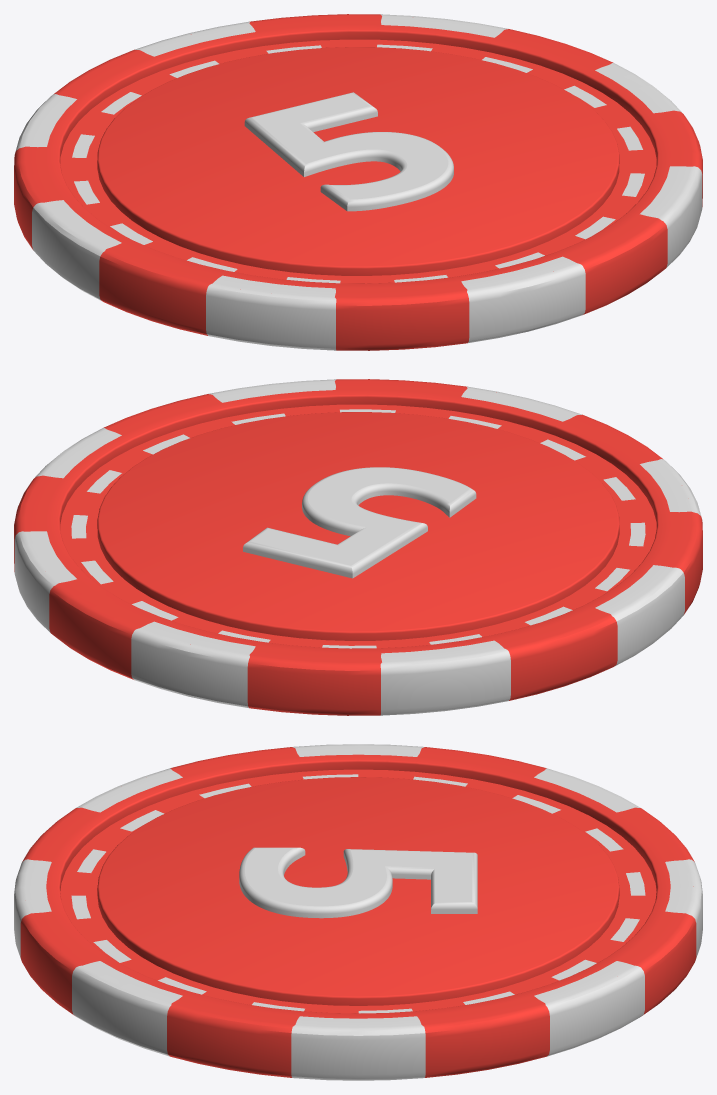
3 renders of one model, top to bottom at view 1: azimuth 30°, elevation 25°; view 2: azimuth 150°, elevation 25°; view 3: azimuth 270°, elevation 25°, orthographic.
Visible parts, largest first — view 1: Chip; view 2: Chip; view 3: Chip.
Part boxes in pixels (x1=…): Chip: x1=14, y1=14, x2=702, y2=350; Chip: x1=14, y1=379, x2=702, y2=715; Chip: x1=14, y1=744, x2=702, y2=1080.
Size of the model in its own units: 8.02 by 0.9115 by 8.02.
